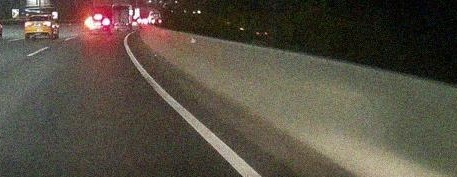L_light: (25, 23, 32, 26), (89, 22, 94, 25)
R_light: (43, 22, 51, 26), (104, 21, 109, 25)
T_light: (95, 17, 101, 19), (36, 16, 41, 17)
night-left: (89, 16, 109, 34)
night-no: (25, 15, 51, 39)
